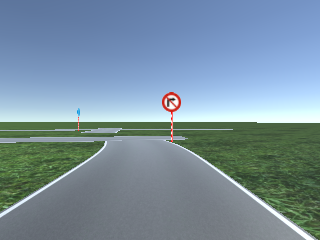-5: (1, 188, 320, 239)
NoRight: (161, 91, 181, 111)
